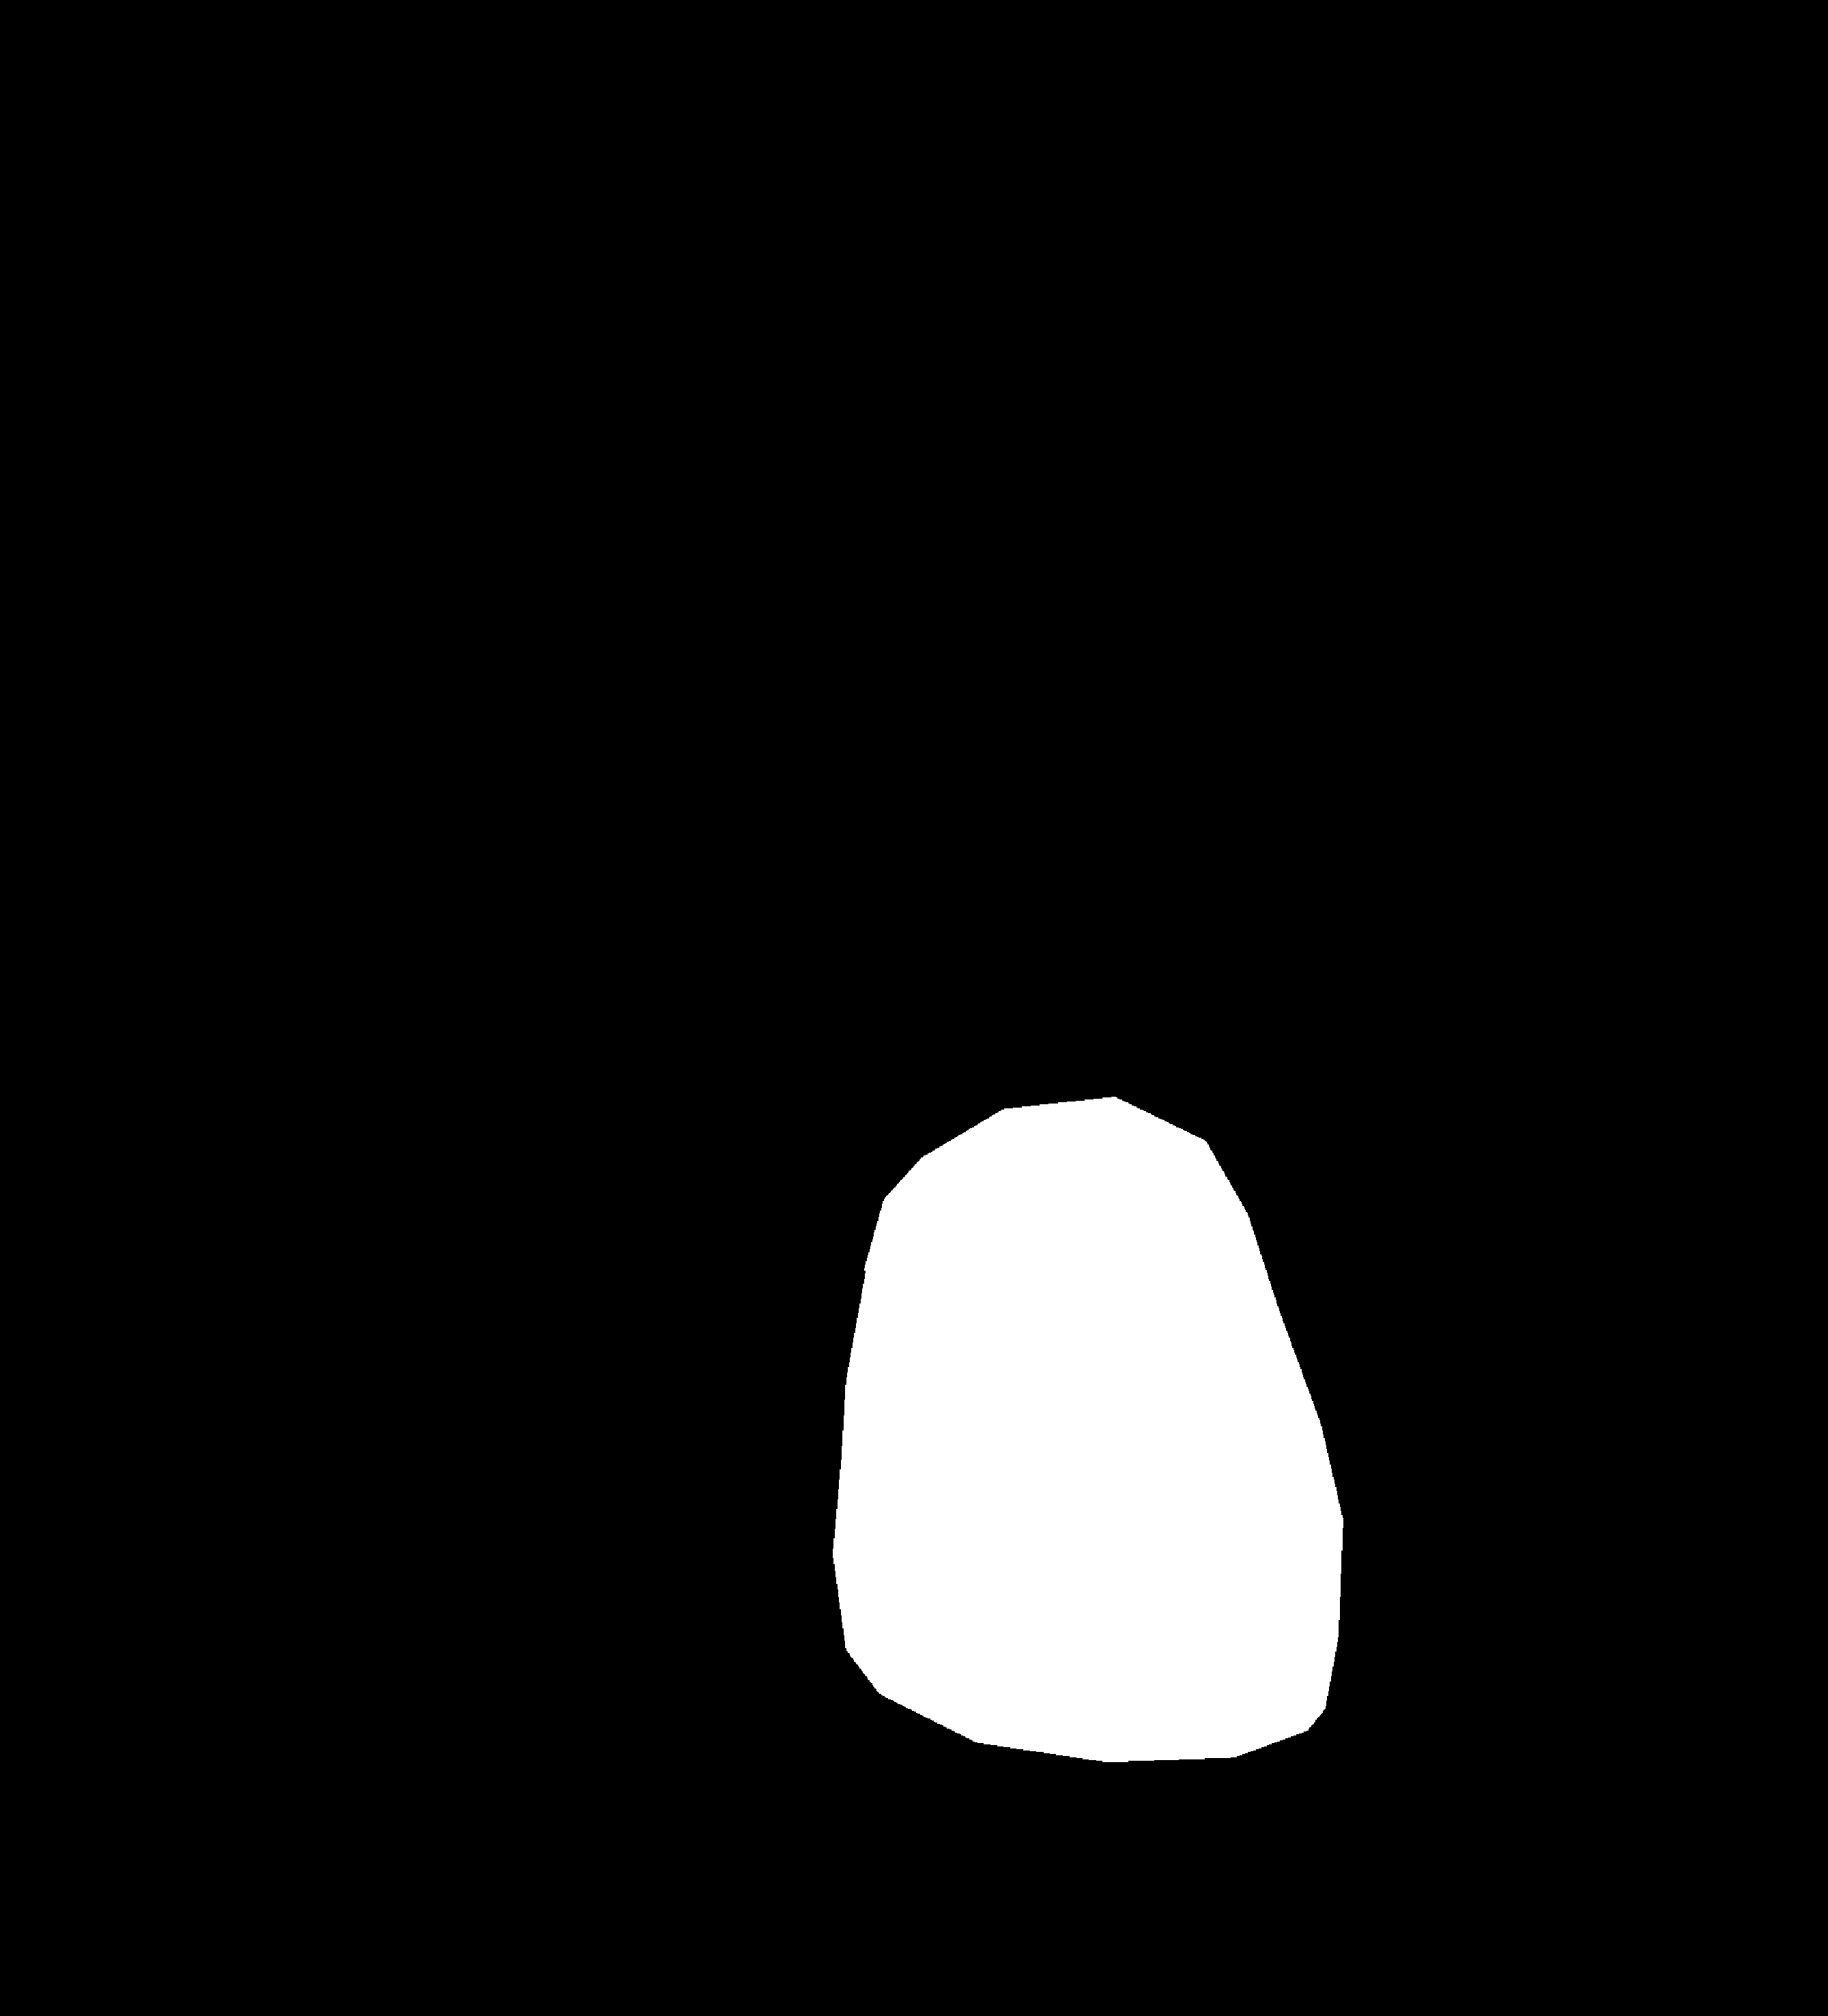heart: (836, 1194, 1340, 1768)
left_lung: (327, 400, 962, 2007)
right_lung: (1098, 365, 1663, 1984)
